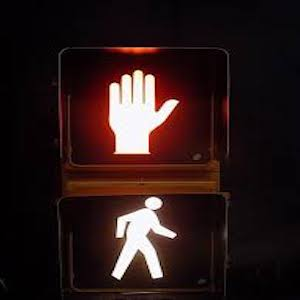green: (103, 192, 185, 286)
red: (105, 65, 172, 160)
